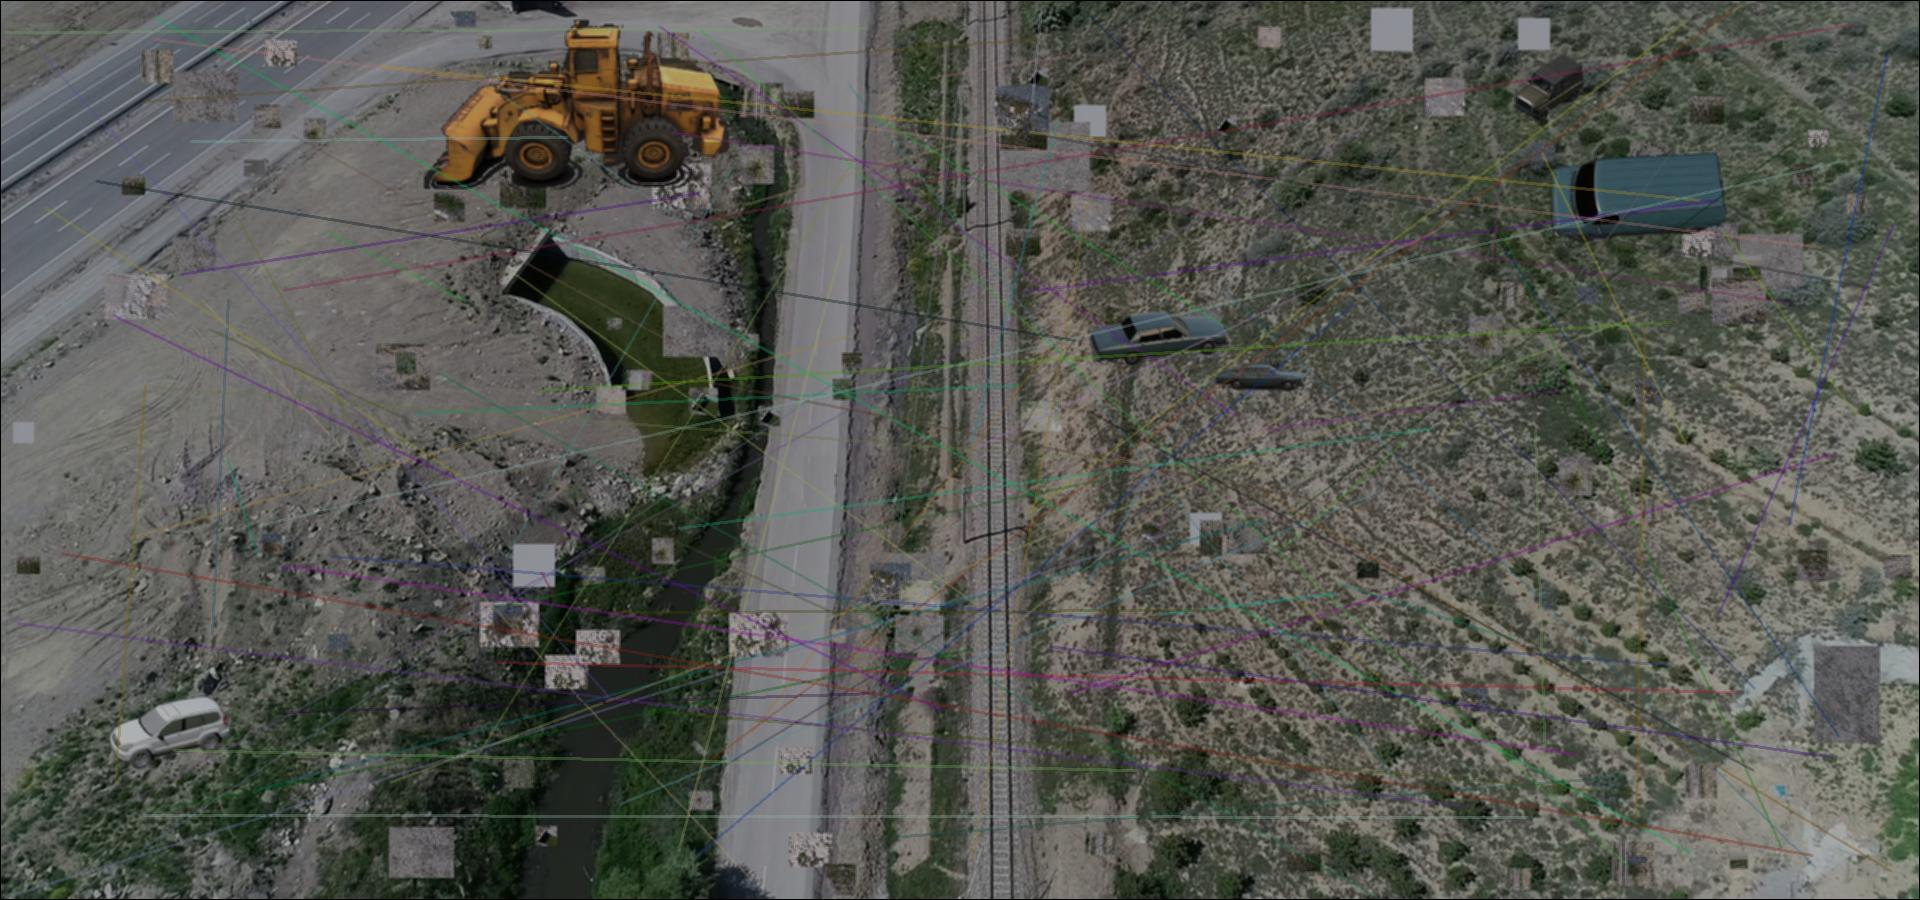arac: (424, 20, 736, 189), (1548, 149, 1729, 242), (109, 694, 230, 771), (1086, 310, 1234, 366), (1515, 53, 1584, 121), (1210, 362, 1309, 392)
